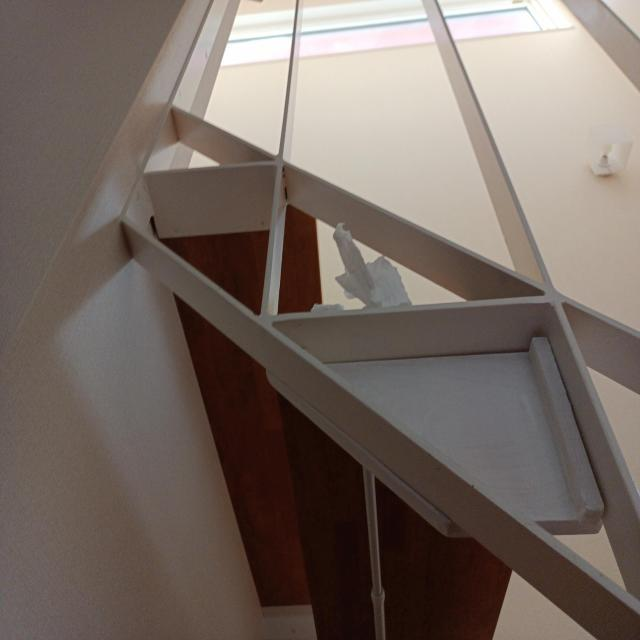Paper: (289, 201, 421, 329)
